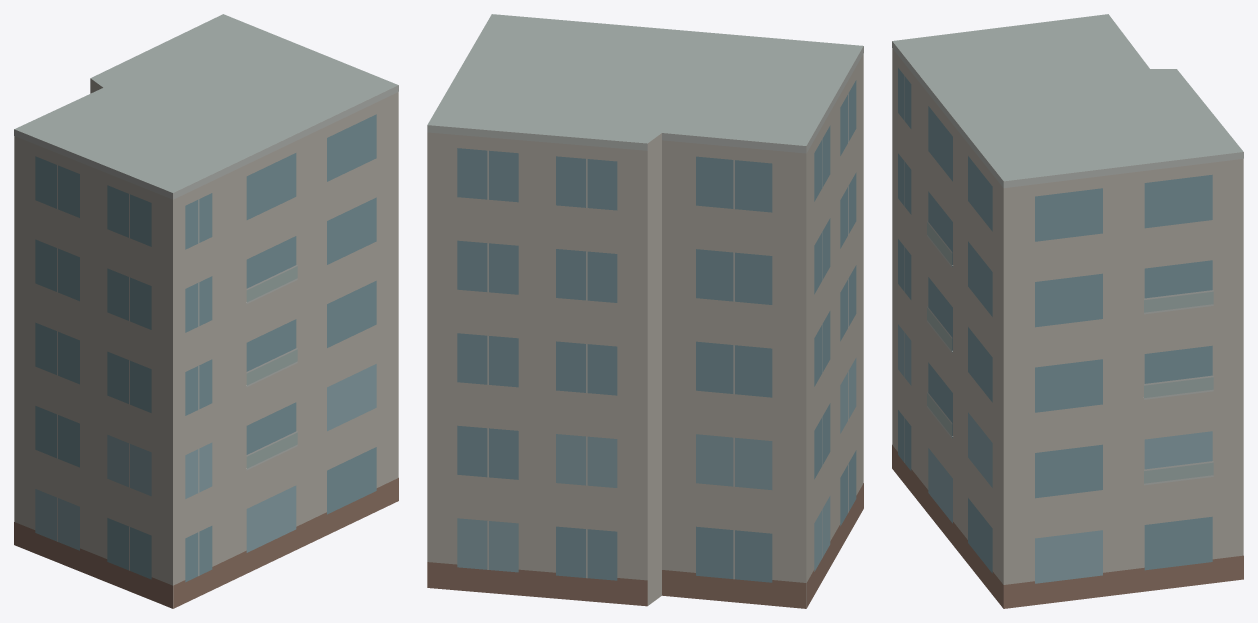
File: survey-upis-32907491.glb
3 renders of one model, left to right at view 1: azimuth 30°, elevation 25°; view 2: azimuth 150°, elevation 25°; view 3: azimuth 270°, elevation 25°, orthographic. The views are drawn at different scales.
Parts seen in each view (by area): view 1: survey-upis-32907491.tmp; view 2: survey-upis-32907491.tmp; view 3: survey-upis-32907491.tmp.
Boxes of the visible parts, x1=… form: survey-upis-32907491.tmp: x1=14, y1=14, x2=398, y2=608; survey-upis-32907491.tmp: x1=427, y1=14, x2=863, y2=608; survey-upis-32907491.tmp: x1=892, y1=14, x2=1243, y2=608.
Size of the model in its own units: 12.82 by 15.25 by 11.38.
